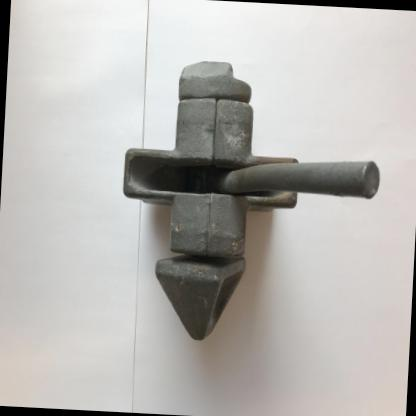Twistlock: (109, 52, 389, 360)
